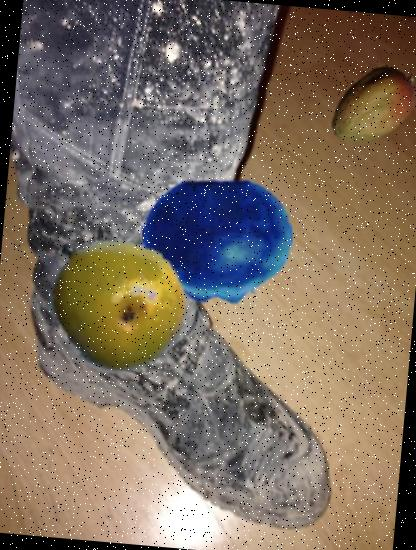Huckleberry: (136, 160, 300, 323)
Maracuja: (37, 225, 193, 381)
Papaya: (322, 55, 416, 159)
Physalis: (70, 282, 126, 338)
